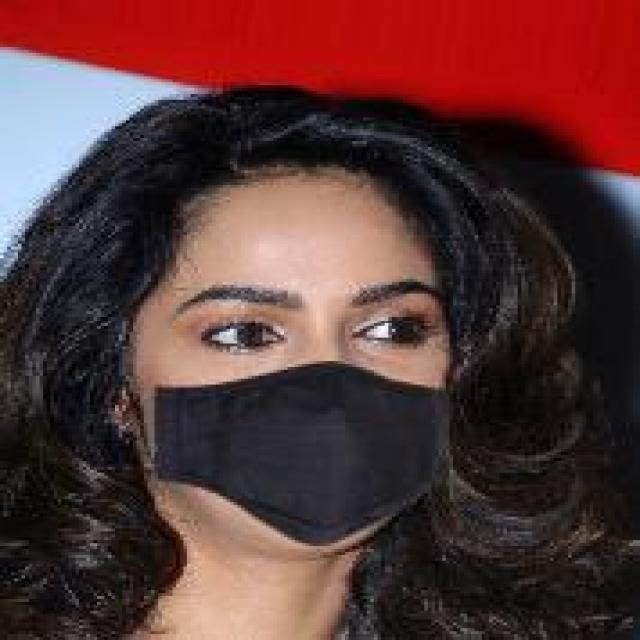mask: (93, 73, 518, 588)
